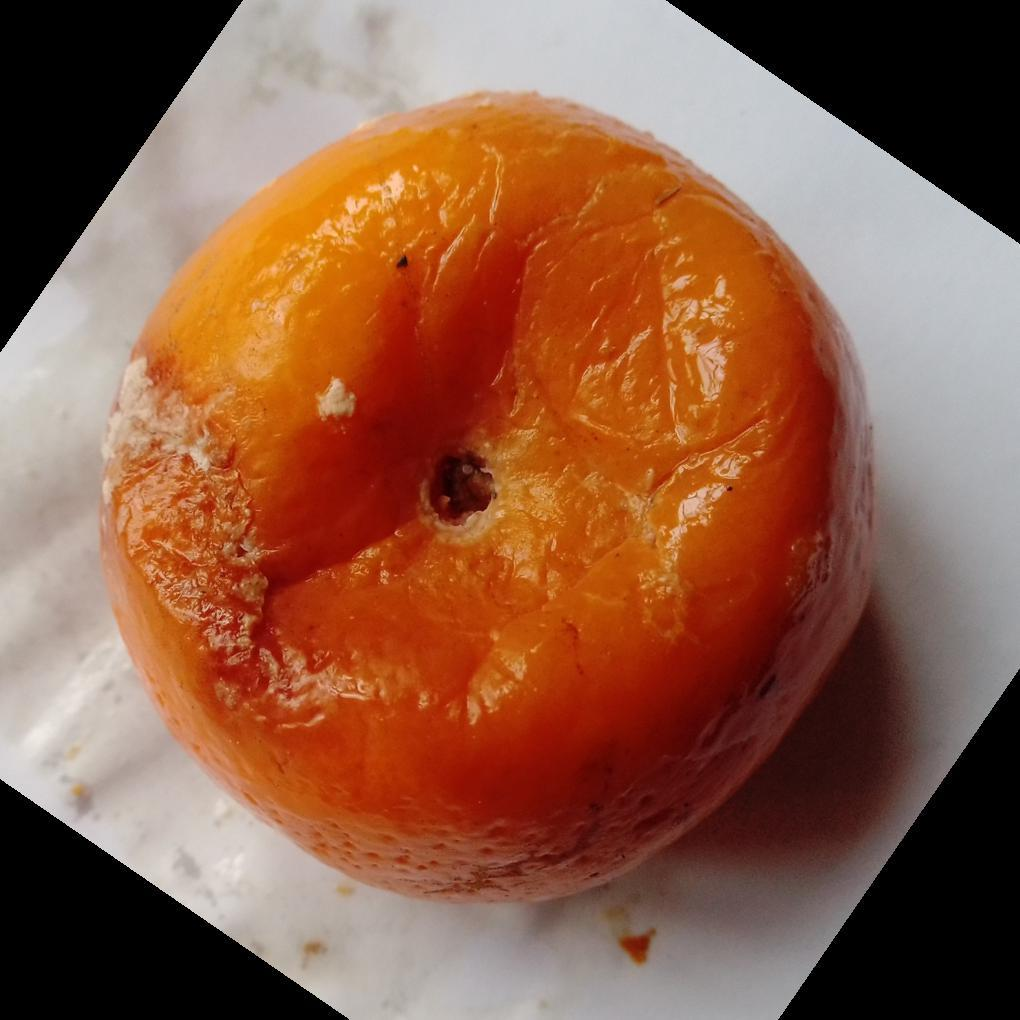FreshOrange: (94, 93, 876, 908)
